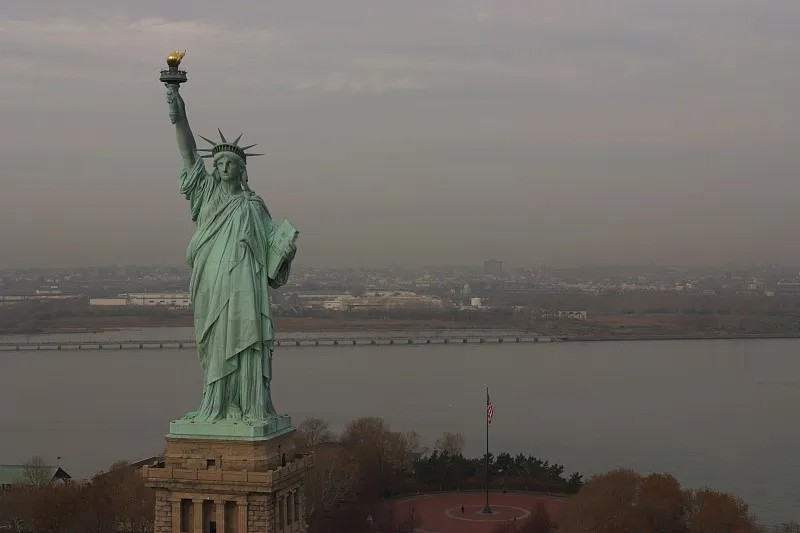SL: (143, 47, 314, 533)
